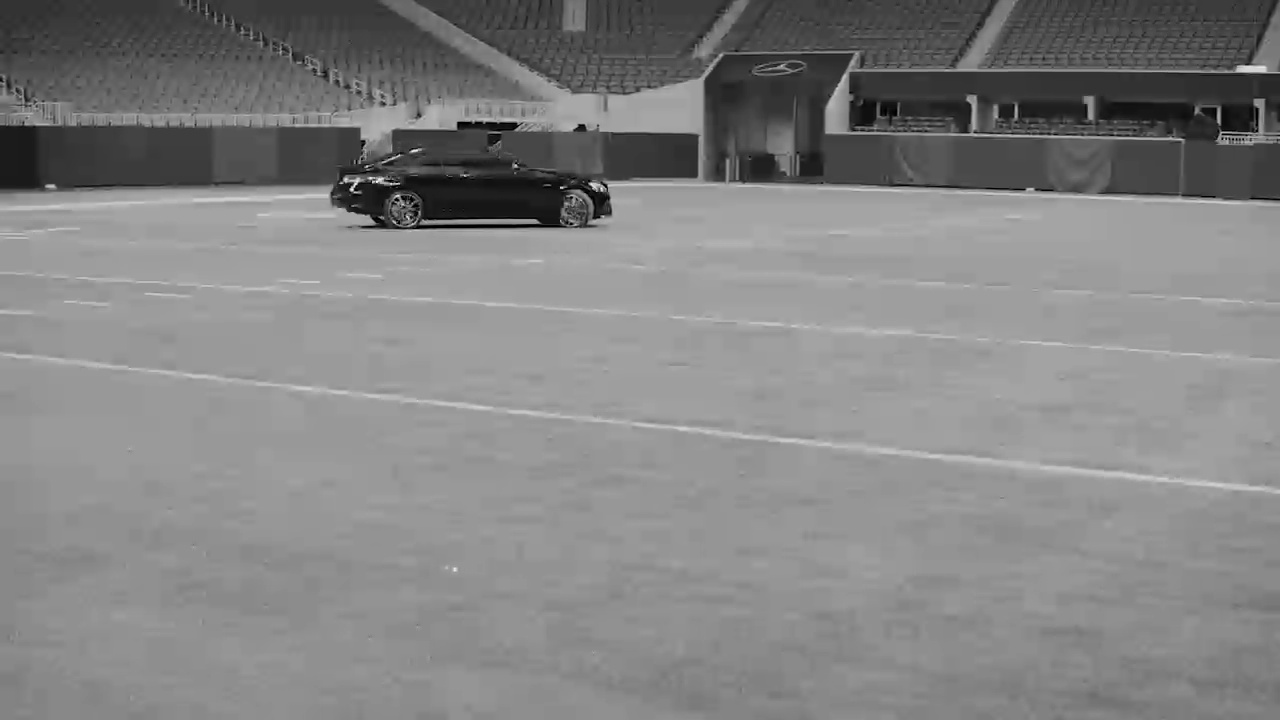car: (330, 145, 614, 232)
